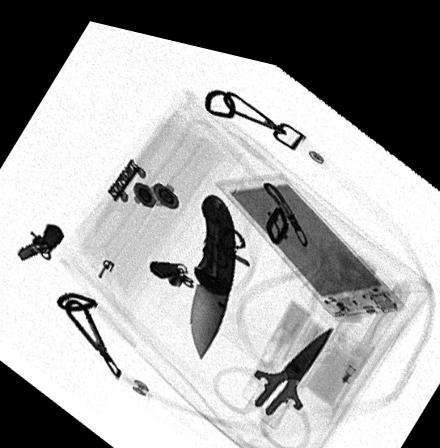Knife: (189, 182, 238, 357)
Powerbank: (213, 161, 408, 298)
Scissors: (211, 307, 338, 440)
